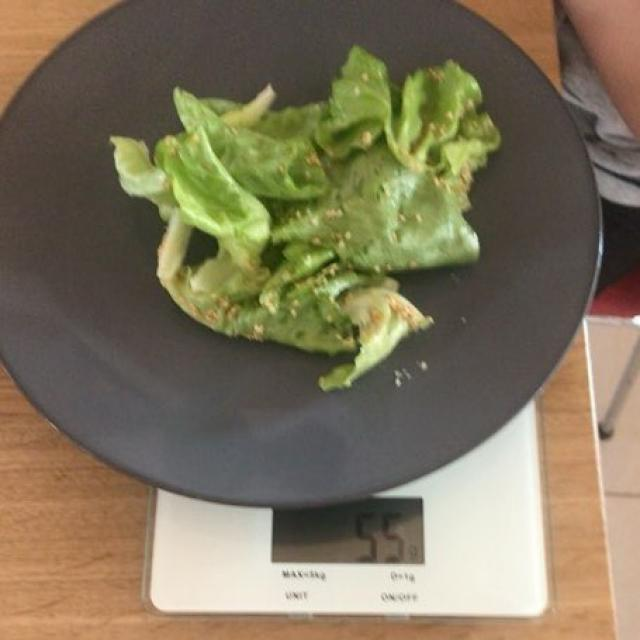salad: (117, 57, 492, 379)
